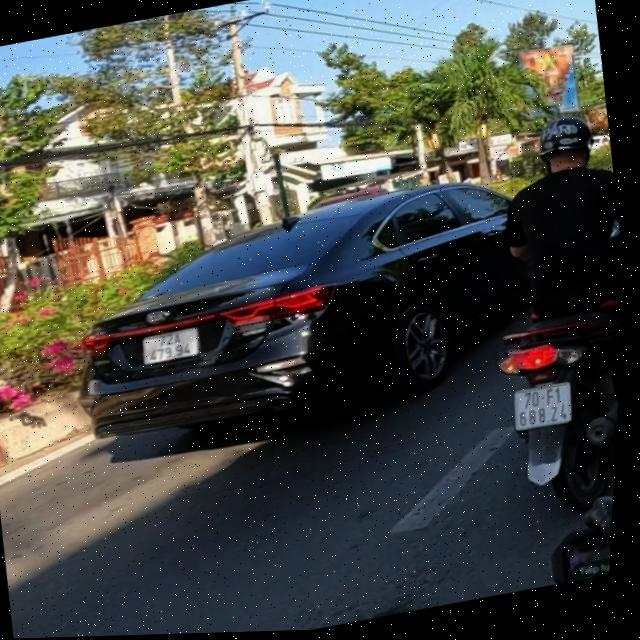car: (50, 155, 601, 455)
motorcycle: (480, 289, 624, 524)
plate: (131, 315, 208, 372), (510, 376, 579, 438)
